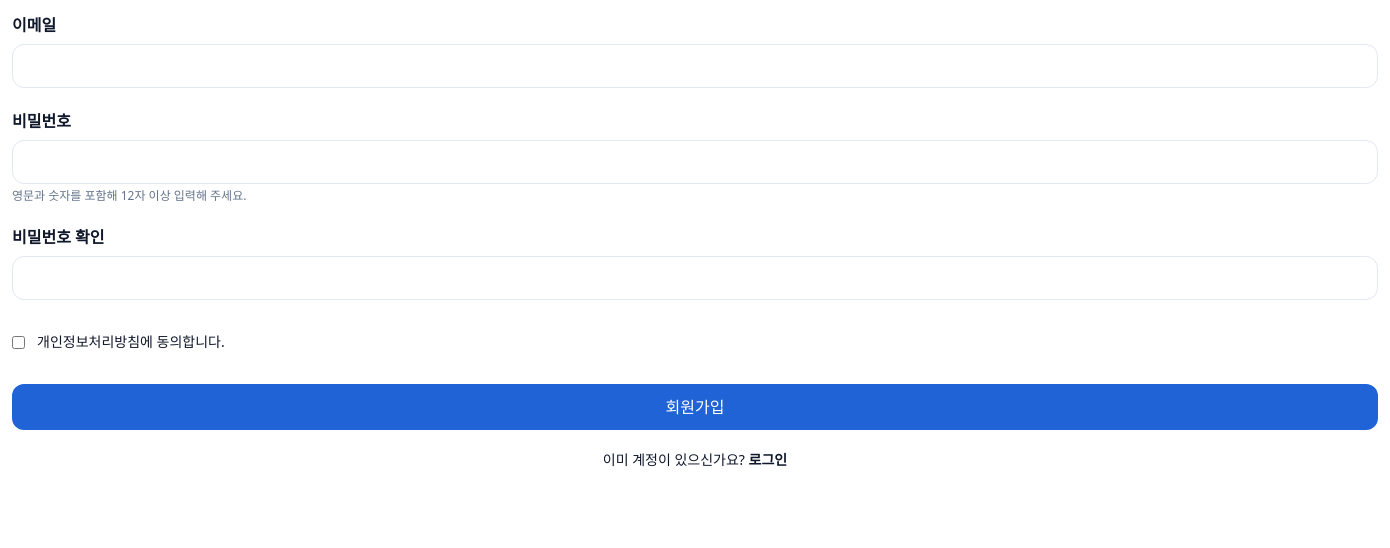
Test case: authentication flows › creates a customer account and reports a signed-in session
In the field labelled "이메일": point(695, 66) 12,44 -> 1378,88, type "customer@example.com"
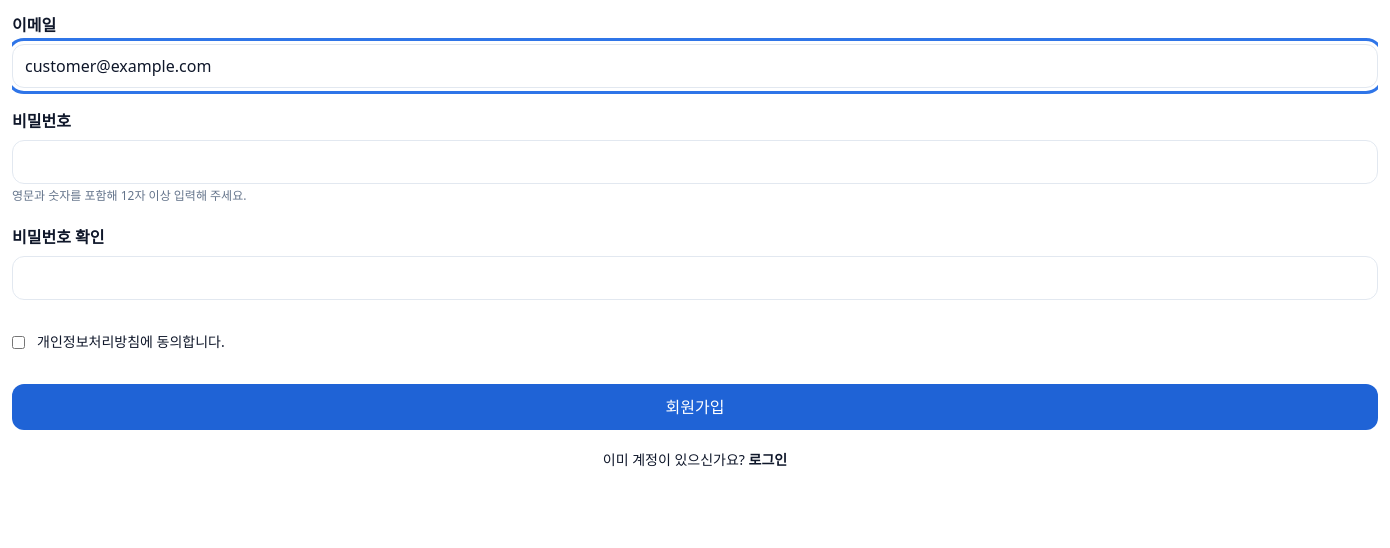
In the password field labelled "비밀번호": point(695, 162) 12,140 -> 1378,184, type "Safe-password-2026"
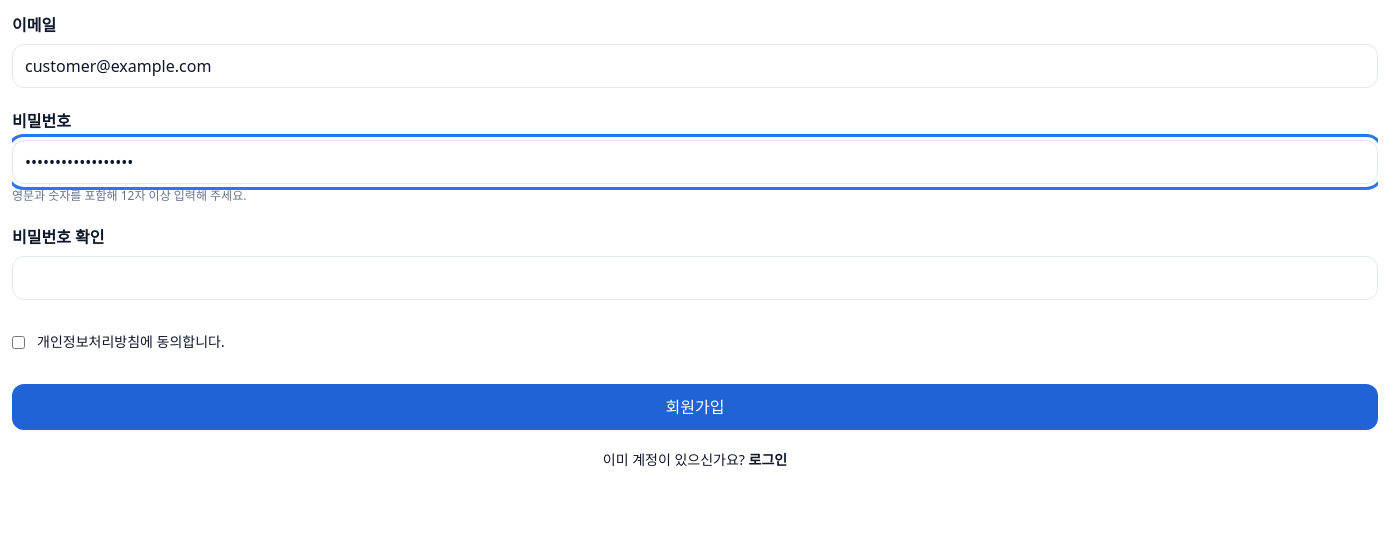
In the password field labelled "비밀번호 확인": point(695, 278) 12,256 -> 1378,300, type "Safe-password-2026"
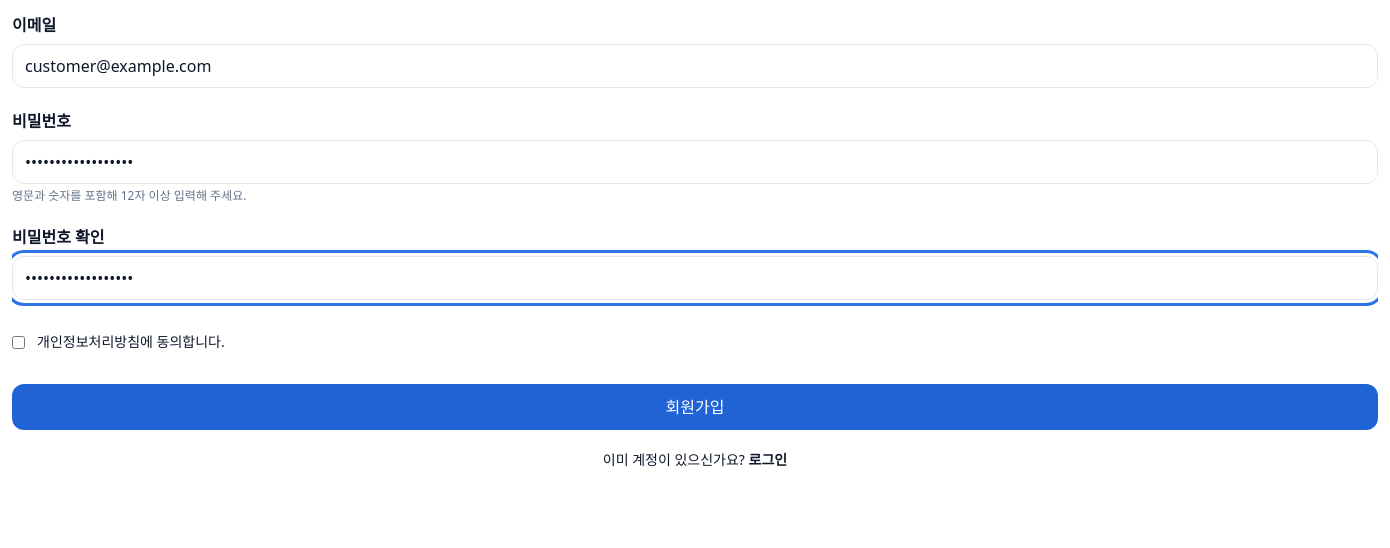
Click the checkbox labelled "개인정보처리방침 에 동의합니다.": point(18, 342) 12,336 -> 25,348
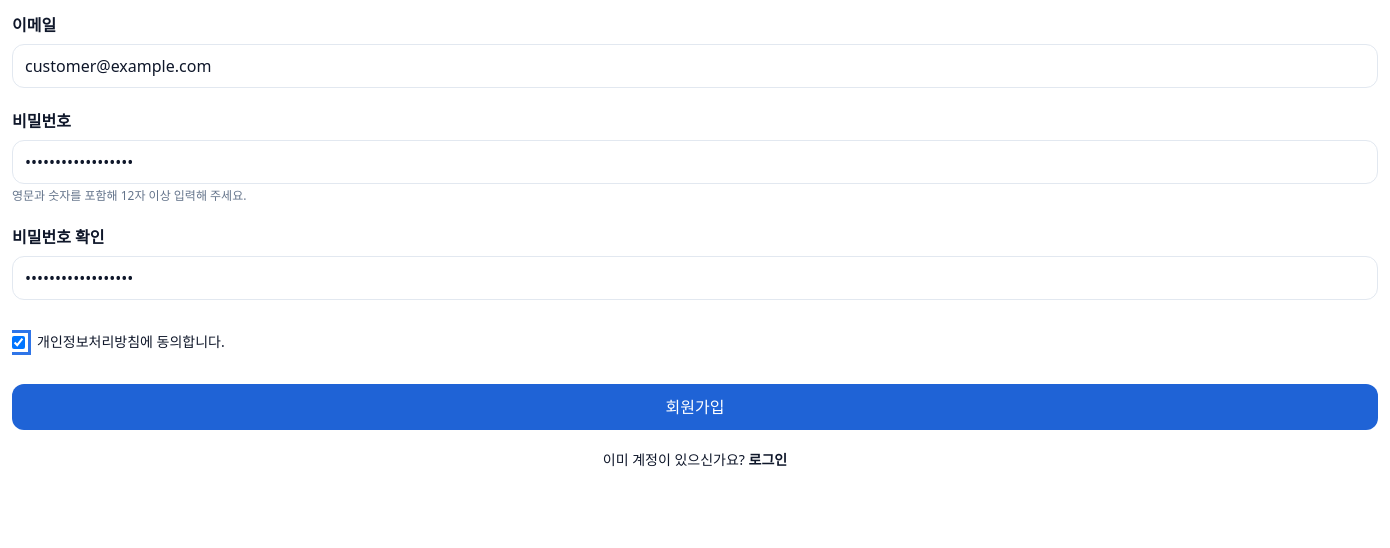
Click the button "회원가입": point(695, 407) 12,384 -> 1378,430
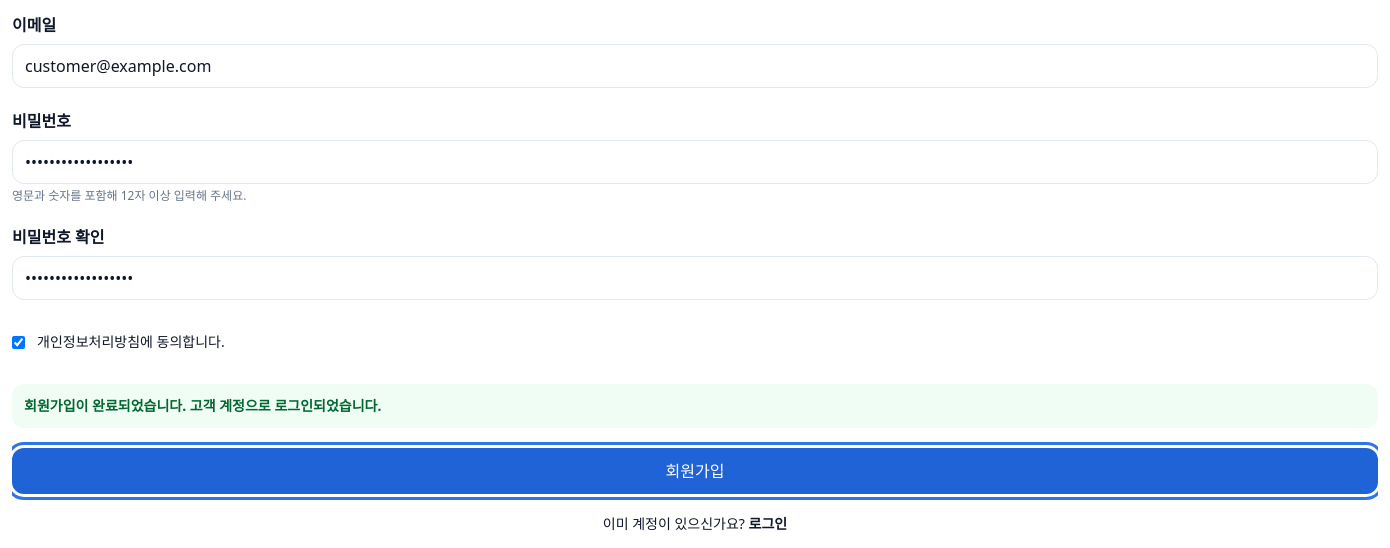
Expected: the message shows "회원가입이 완료되었습니다", 24,396 -> 381,415
